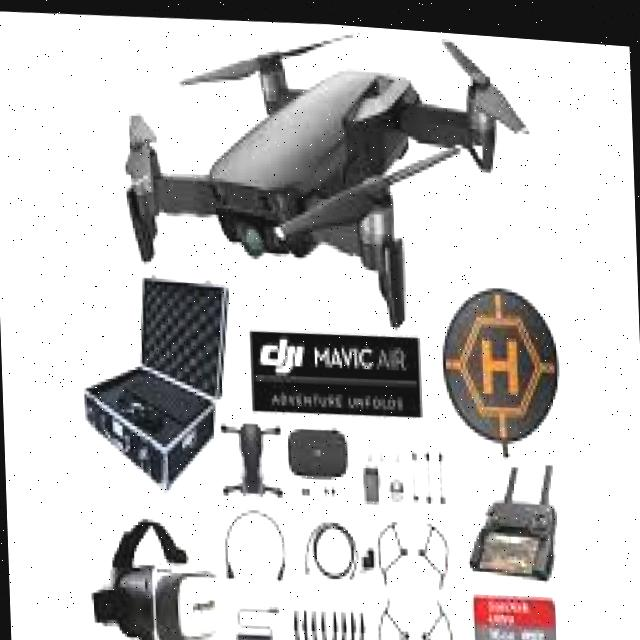drone: (106, 6, 545, 353)
